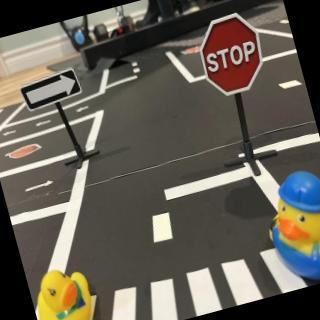duck_regular: (26, 261, 103, 320)
duck_specialty: (252, 161, 320, 293)
road_crosswalk: (46, 235, 313, 320)
road_oneway: (19, 176, 58, 198), (32, 117, 57, 130), (73, 103, 95, 116), (1, 127, 18, 139)
sign_oneway_right: (18, 64, 87, 113)
sign_stop: (192, 11, 272, 103)
